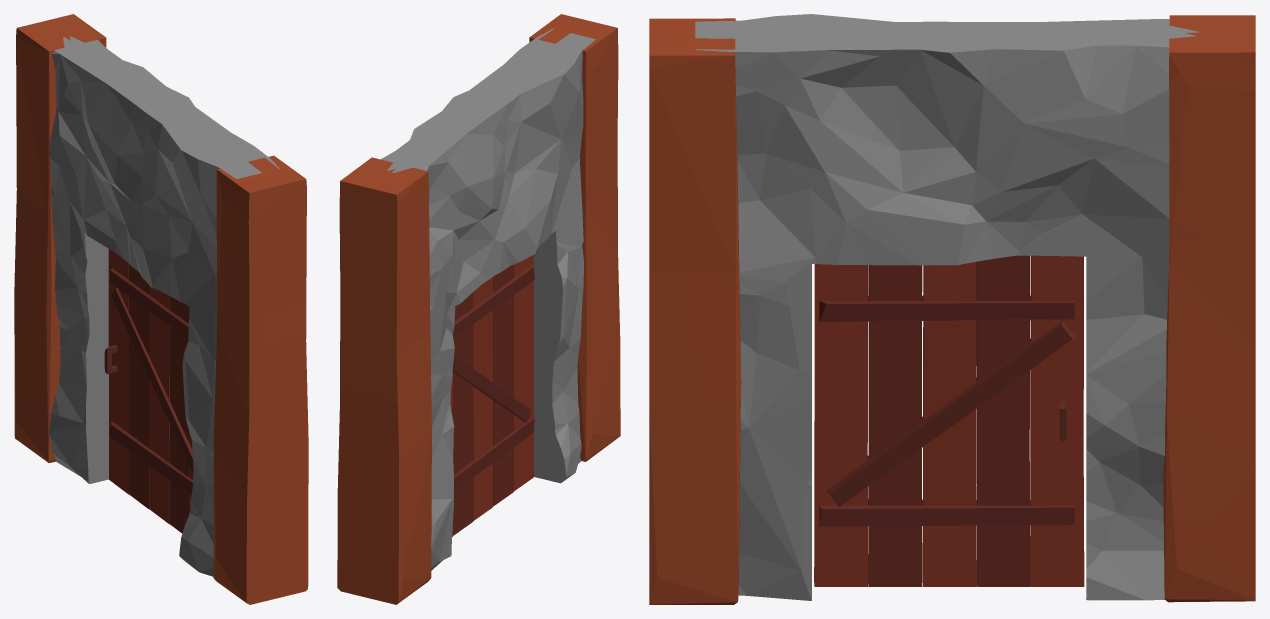
Rendered from Stone wall_Door.fbx.
The picture shows the model from 3 angles, left to right: view 1: azimuth 30°, elevation 25°; view 2: azimuth 150°, elevation 25°; view 3: azimuth 270°, elevation 25°; orthographic projection. The views are drawn at different scales.
Visible parts, largest first — view 1: Stone wall_Door, Door; view 2: Stone wall_Door, Door; view 3: Stone wall_Door, Door.
Part boxes in pixels (bbox=[...]): Stone wall_Door: bbox=[14, 14, 308, 604]; Door: bbox=[104, 249, 193, 533]; Stone wall_Door: bbox=[337, 14, 620, 604]; Door: bbox=[450, 255, 534, 536]; Stone wall_Door: bbox=[649, 14, 1255, 604]; Door: bbox=[814, 255, 1084, 586].
Size of the model in its own units: 0.5293 by 3 by 3.
